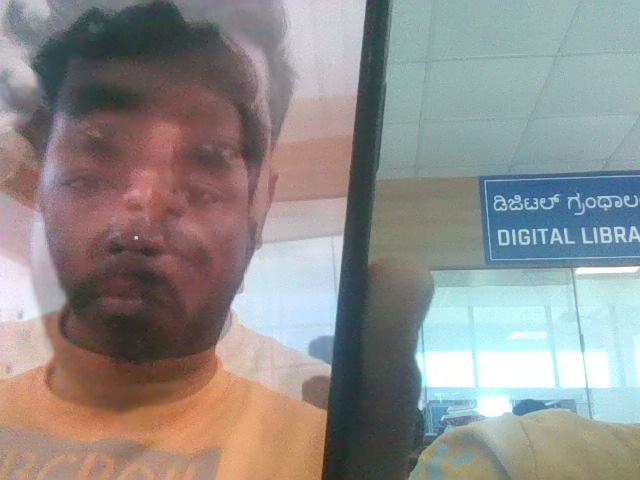fake: (0, 0, 297, 421)
